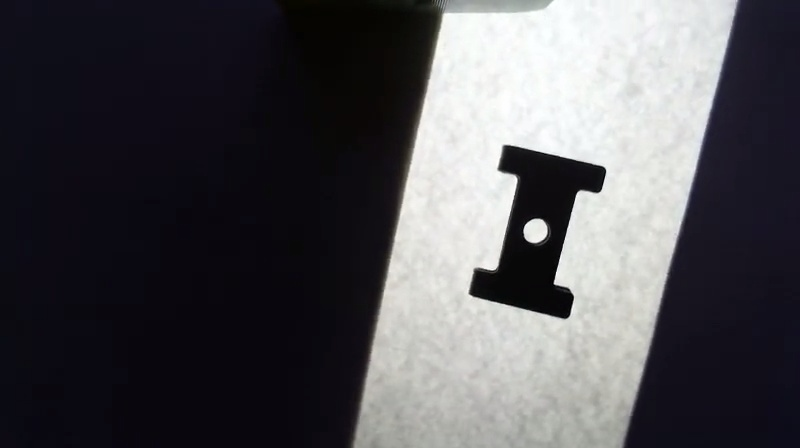O002: (464, 142, 614, 322)
